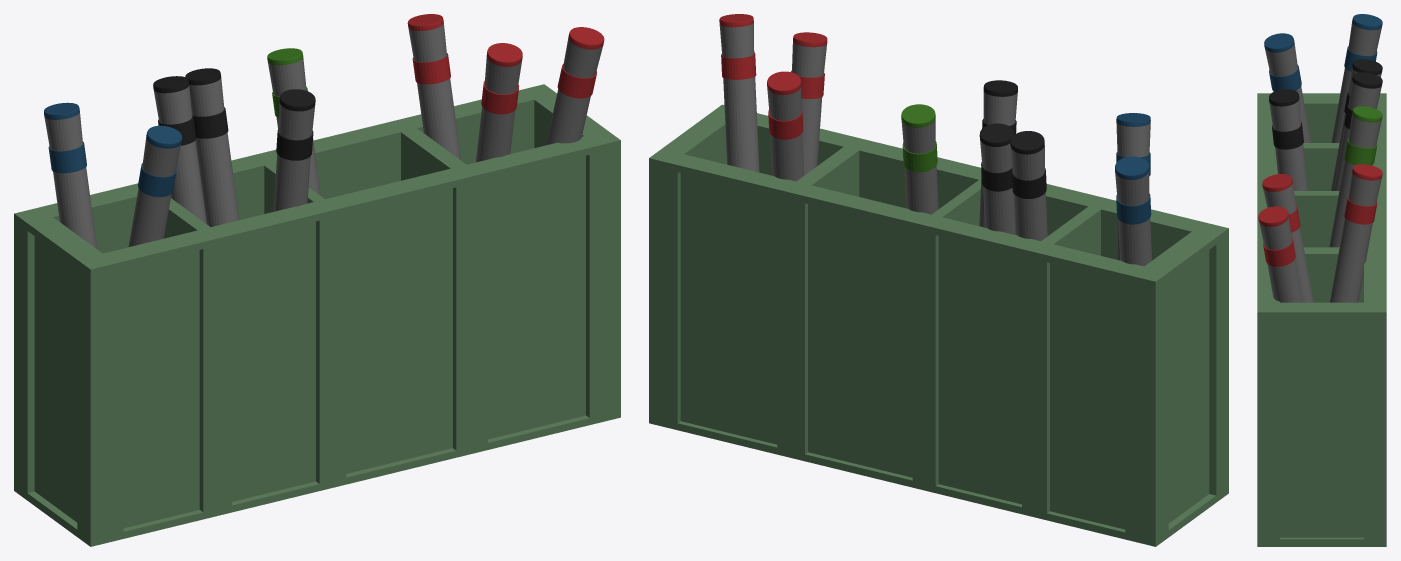
The model's file is pennen bakje c.fbx.
3 renders of one model, left to right at view 1: azimuth 30°, elevation 25°; view 2: azimuth 150°, elevation 25°; view 3: azimuth 270°, elevation 25°, orthographic. The views are drawn at different scales.
Visible parts, largest first — view 1: Cube, Cylinder.004, Cylinder, Cylinder.003, Cylinder.005, Cylinder.006, Cylinder.007, Cylinder.008, Cylinder.001, Cylinder.002; view 2: Cube, Cylinder.007, Cylinder, Cylinder.003, Cylinder.001, Cylinder.002, Cylinder.004, Cylinder.008, Cylinder.005, Cylinder.006; view 3: Cube, Cylinder.003, Cylinder.007, Cylinder.005, Cylinder.002, Cylinder, Cylinder.006, Cylinder.008, Cylinder.004, Cylinder.001.
Part boxes in pixels (left/top/right/bottom): Cube: left=14, top=84, right=620, bottom=546; Cylinder.004: left=185, top=68, right=239, bottom=226; Cylinder: left=44, top=102, right=97, bottom=248; Cylinder.003: left=407, top=14, right=461, bottom=160; Cylinder.005: left=273, top=89, right=315, bottom=211; Cylinder.006: left=128, top=125, right=182, bottom=247; Cylinder.007: left=546, top=27, right=604, bottom=145; Cylinder.008: left=475, top=43, right=522, bottom=162; Cylinder.001: left=153, top=76, right=206, bottom=223; Cylinder.002: left=267, top=48, right=320, bottom=195; Cube: left=649, top=104, right=1228, bottom=546; Cylinder.007: left=719, top=14, right=759, bottom=172; Cylinder: left=1115, top=156, right=1151, bottom=266; Cylinder.003: left=767, top=71, right=804, bottom=181; Cylinder.001: left=1010, top=131, right=1047, bottom=241; Cylinder.002: left=901, top=104, right=938, bottom=214; Cylinder.004: left=979, top=123, right=1015, bottom=234; Cylinder.008: left=791, top=32, right=827, bottom=175; Cylinder.005: left=979, top=80, right=1017, bottom=227; Cylinder.006: left=1116, top=113, right=1150, bottom=260; Cube: left=1257, top=93, right=1386, bottom=546; Cylinder.003: left=1330, top=164, right=1382, bottom=302; Cylinder.007: left=1258, top=206, right=1302, bottom=302; Cylinder.005: left=1269, top=89, right=1308, bottom=190; Cylinder.002: left=1329, top=106, right=1382, bottom=247; Cylinder: left=1331, top=14, right=1382, bottom=142; Cylinder.006: left=1264, top=33, right=1311, bottom=142; Cylinder.008: left=1262, top=174, right=1313, bottom=302; Cylinder.004: left=1333, top=72, right=1382, bottom=190; Cylinder.001: left=1331, top=59, right=1382, bottom=190.
Bounding box in the file's own units: 20 × 13.87 × 5.
